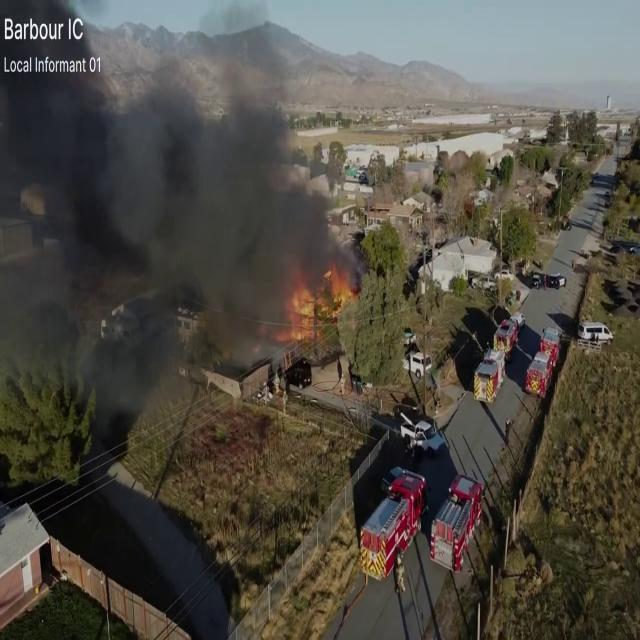Fire: (278, 262, 359, 340)
Smoke: (0, 0, 342, 399)
